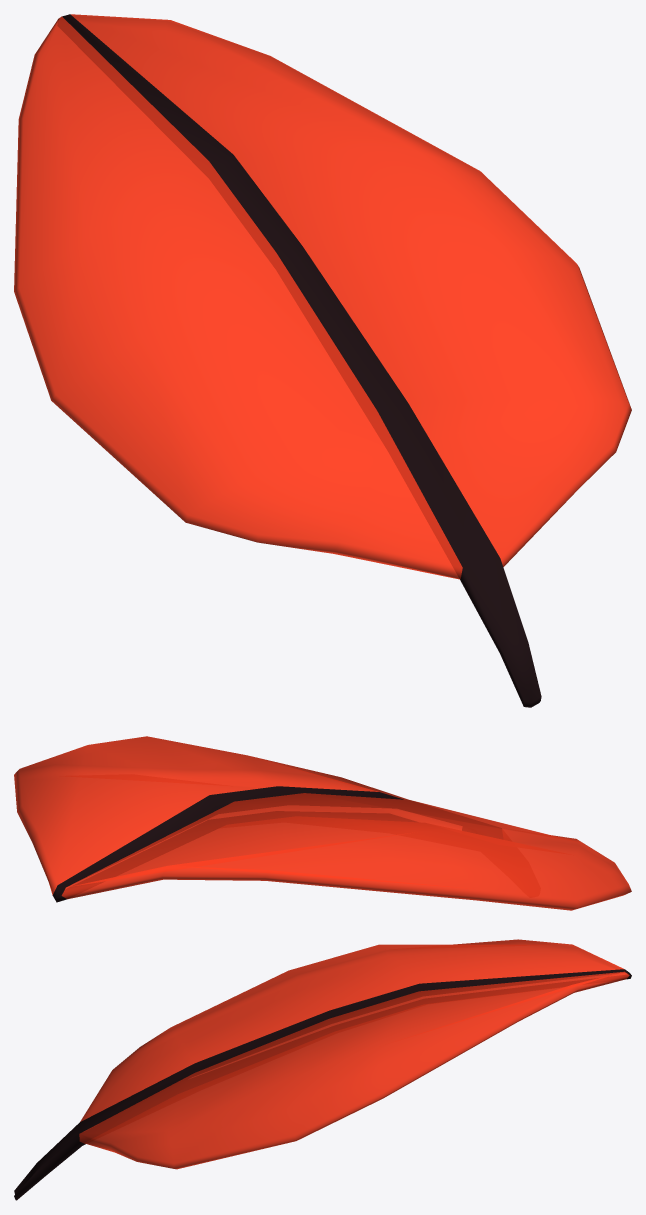
The model's file is Leaf_01_UV.fbx.
3 renders of one model, top to bottom at view 1: azimuth 30°, elevation 25°; view 2: azimuth 150°, elevation 25°; view 3: azimuth 270°, elevation 25°, orthographic. The views are drawn at different scales.
Visible parts, largest first — view 1: Leaf_01_UV; view 2: Leaf_01_UV; view 3: Leaf_01_UV.
Part boxes in pixels (x1=…): Leaf_01_UV: x1=14, y1=14, x2=631, y2=707; Leaf_01_UV: x1=14, y1=736, x2=631, y2=910; Leaf_01_UV: x1=14, y1=939, x2=631, y2=1200.
Bounding box in the file's own units: 41.09 × 64.05 × 26.99.
